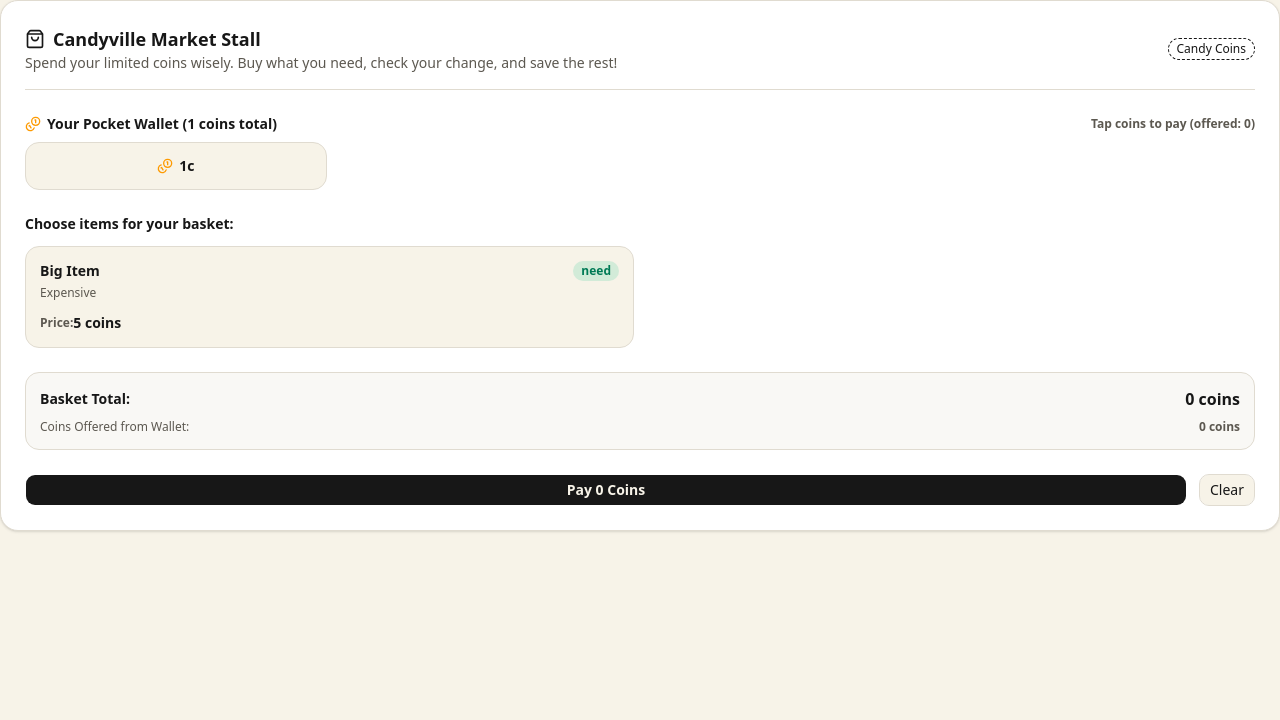
Scenario: CoinShopSimulation › checks for insufficient funds when basket cost exceeds total wallet coins
Click the button with test id "shop-item-item-big" at (70, 270), box x1=25 y1=246 x2=634 y2=348
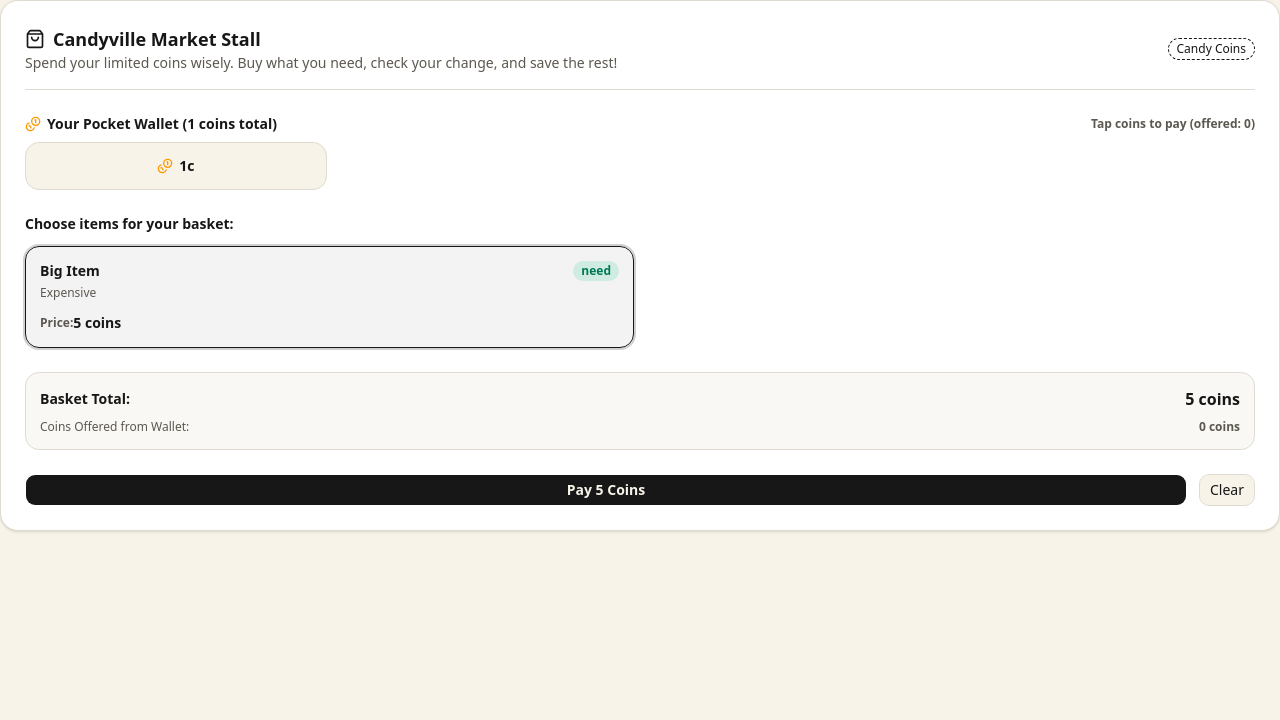
Click the button with test id "coin-shop-pay-btn" at (606, 490), box x1=25 y1=474 x2=1187 y2=506
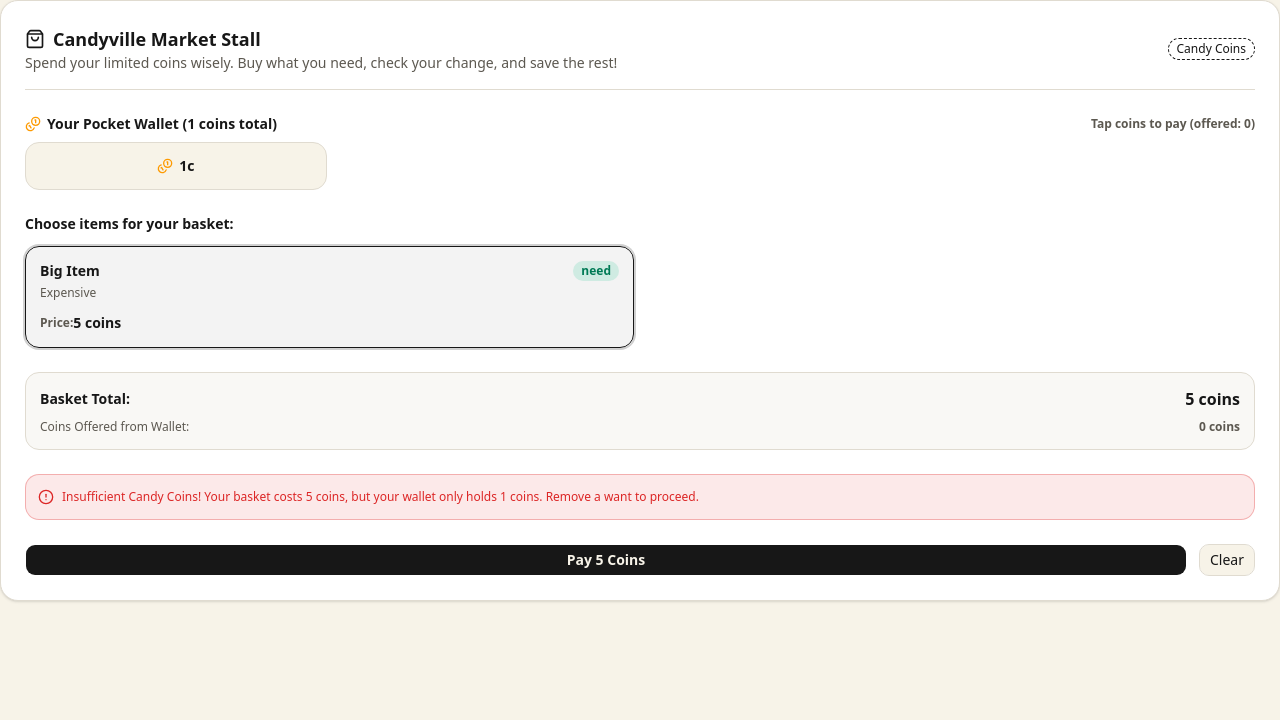
Result: the message with test id "coin-shop-error" shows "Insufficient Candy Coins" at x1=62 y1=488 x2=699 y2=505
